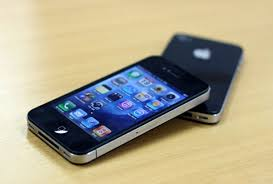iphone: (20, 54, 223, 166)
iphone4: (20, 54, 223, 166)
